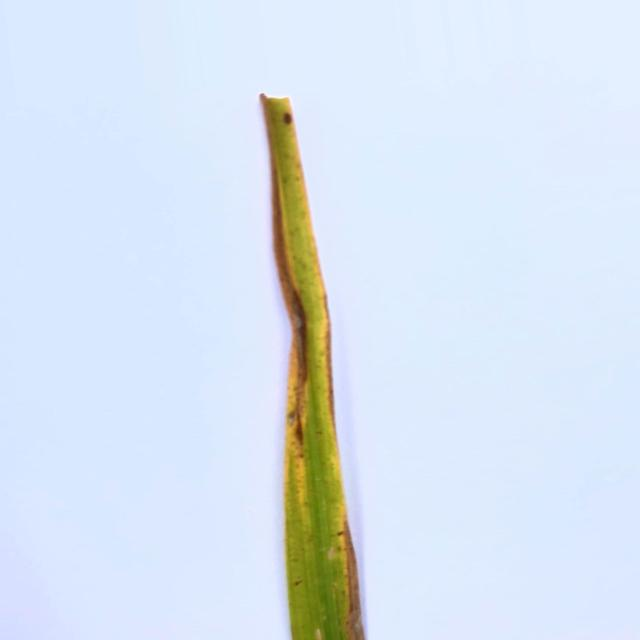Rice Tungro: (260, 95, 365, 640)
